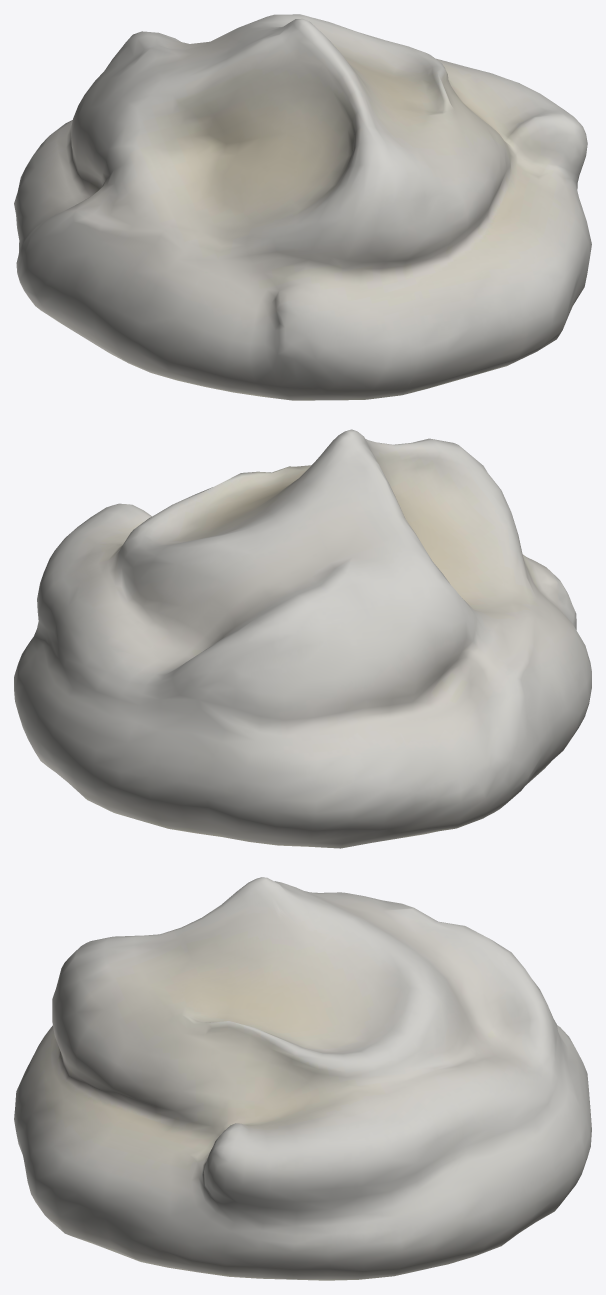
The picture shows the model from 3 angles, top to bottom: view 1: azimuth 30°, elevation 25°; view 2: azimuth 150°, elevation 25°; view 3: azimuth 270°, elevation 25°; orthographic projection. The views are drawn at different scales.
Parts seen in each view (by area): view 1: tripo_node_7bcf1da9-77cf-4556-b1d1-071878fdbe1b; view 2: tripo_node_7bcf1da9-77cf-4556-b1d1-071878fdbe1b; view 3: tripo_node_7bcf1da9-77cf-4556-b1d1-071878fdbe1b.
Part boxes in pixels (bbox=[...]): tripo_node_7bcf1da9-77cf-4556-b1d1-071878fdbe1b: bbox=[14, 14, 591, 400]; tripo_node_7bcf1da9-77cf-4556-b1d1-071878fdbe1b: bbox=[14, 429, 591, 848]; tripo_node_7bcf1da9-77cf-4556-b1d1-071878fdbe1b: bbox=[14, 877, 591, 1280].
Size of the model in its own units: 0.9785 by 0.5527 by 0.998.
Materials: 1 (1 with a texture image).
